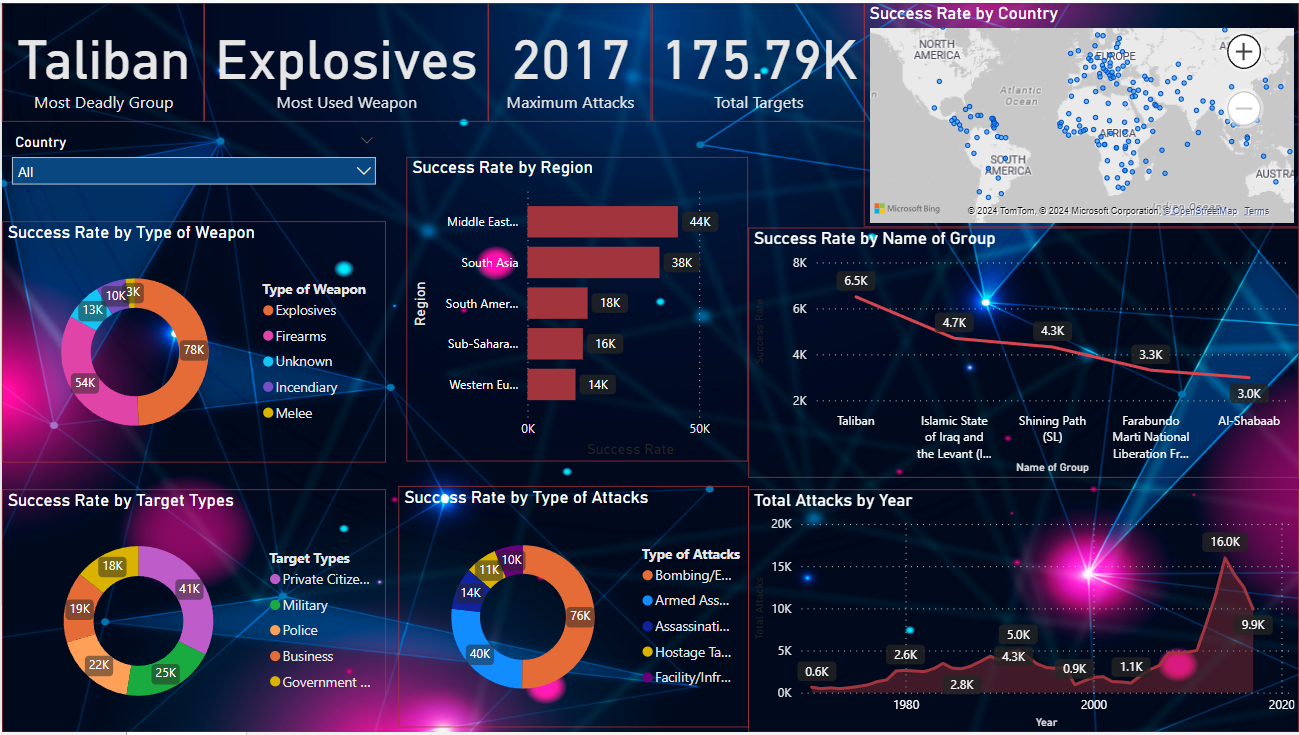

This screenshot's page, from the dashboard's own definition file:
{"tool":"powerbi","page":{"name":"Page 1","canvas":[1280,720],"ordinal":0},"visuals":[{"type":"donutChart","fields":{"Category":["Terrorism Cleaned Dataset.Type of Attacks"],"Y":["Sum(Terrorism Cleaned Dataset.Success Rate)"]},"box":[390.9,476.4,345.6,238.2],"z":0},{"type":"donutChart","fields":{"Category":["Terrorism Cleaned Dataset.Target Types"],"Y":["Sum(Terrorism Cleaned Dataset.Success Rate)"]},"box":[0,479.8,379.1,239.9],"z":1000},{"type":"donutChart","fields":{"Category":["Terrorism Cleaned Dataset.Type of Weapon"],"Y":["Sum(Terrorism Cleaned Dataset.Success Rate)"]},"box":[0,214.7,379.1,238.2],"z":2000},{"type":"map","title":"Success Rate by Country","fields":{"Category":["Terrorism Cleaned Dataset.Country"]},"box":[850.5,0,429.4,221.4],"z":3000},{"type":"barChart","fields":{"Category":["Terrorism Cleaned Dataset.Region"],"Y":["Sum(Terrorism Cleaned Dataset.Success Rate)"]},"box":[399.2,152.7,337.2,300.3],"z":4000},{"type":"lineChart","fields":{"Y":["Sum(Terrorism Cleaned Dataset.Success Rate)"],"Category":["Terrorism Cleaned Dataset.Name of Group"]},"box":[736.4,221.4,543.5,246.6],"z":5000},{"type":"areaChart","fields":{"Category":["Terrorism Cleaned Dataset.Year"],"Y":["CountNonNull(Terrorism Cleaned Dataset.Year)"]},"box":[736.4,479.8,543.5,239.9],"z":6000},{"type":"slicer","fields":{"Values":["Terrorism Cleaned Dataset.Country"]},"box":[0,124.1,379.1,90.6],"z":7000},{"type":"card","fields":{"Values":["Min(Terrorism Cleaned Dataset.Name of Group)"]},"box":[0,0,199.6,117.4],"z":8000},{"type":"card","fields":{"Values":["CountNonNull(Terrorism Cleaned Dataset.Target Types)"]},"box":[640.8,0,209.7,117.4],"z":9000},{"type":"card","fields":{"Values":["Max(Terrorism Cleaned Dataset.Year)"]},"box":[479.8,0,161,117.4],"z":10000},{"type":"card","fields":{"Values":["Min(Terrorism Cleaned Dataset.Type of Weapon)"]},"box":[199.6,0,280.1,117.4],"z":11000}]}

Visuals, with their boxes in screenshot pixels (x1, y1, x2, y2), scaled from the page's 1280x720 canvas onto the 1299x735 screenshot:
donutChart - Terrorism Cleaned Dataset.Type of Attacks x Sum(Terrorism Cleaned Dataset.Success Rate): 397:486:747:729
donutChart - Terrorism Cleaned Dataset.Target Types x Sum(Terrorism Cleaned Dataset.Success Rate): 0:490:385:734
donutChart - Terrorism Cleaned Dataset.Type of Weapon x Sum(Terrorism Cleaned Dataset.Success Rate): 0:219:385:462
"Success Rate by Country" map: 863:0:1298:226
barChart - Terrorism Cleaned Dataset.Region x Sum(Terrorism Cleaned Dataset.Success Rate): 405:156:747:462
lineChart - Sum(Terrorism Cleaned Dataset.Success Rate) x Terrorism Cleaned Dataset.Name of Group: 747:226:1298:478
areaChart - Terrorism Cleaned Dataset.Year x CountNonNull(Terrorism Cleaned Dataset.Year): 747:490:1298:734
slicer - Terrorism Cleaned Dataset.Country: 0:127:385:219
card - Min(Terrorism Cleaned Dataset.Name of Group): 0:0:203:120
card - CountNonNull(Terrorism Cleaned Dataset.Target Types): 650:0:863:120
card - Max(Terrorism Cleaned Dataset.Year): 487:0:650:120
card - Min(Terrorism Cleaned Dataset.Type of Weapon): 203:0:487:120
